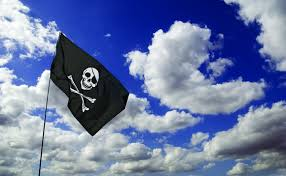Jolly Roger Flag: (47, 34, 133, 138)
